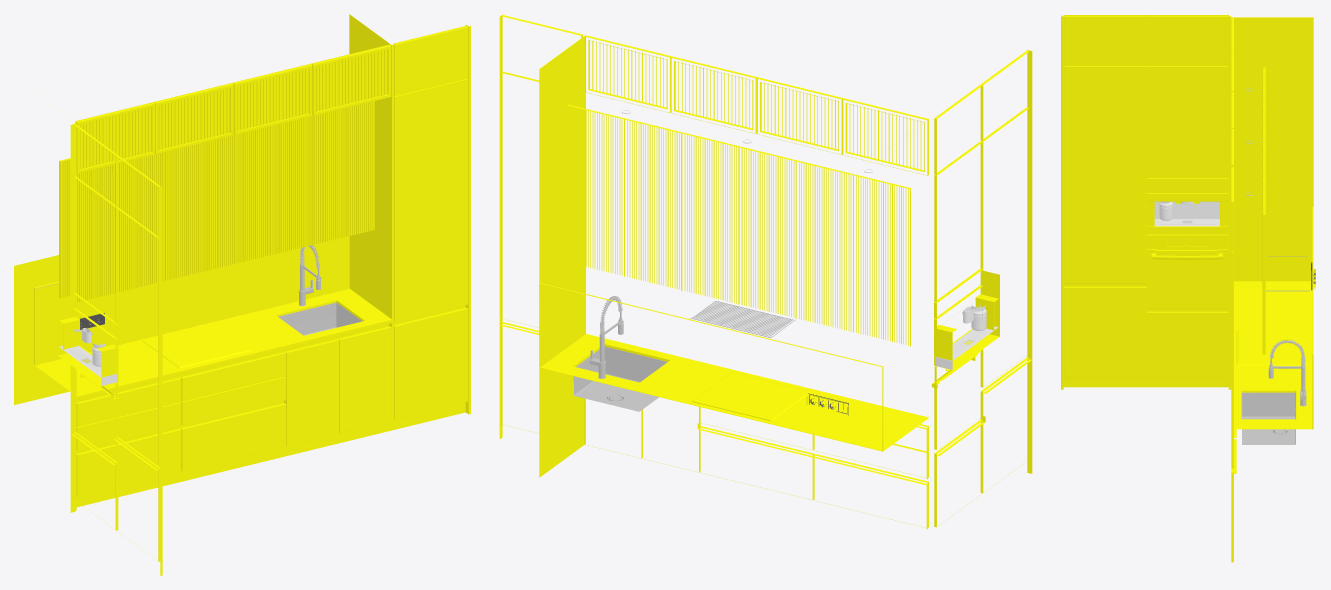
The model's file is SM_Kitchen.glb.
The picture shows the model from 3 angles, left to right: view 1: azimuth 30°, elevation 25°; view 2: azimuth 150°, elevation 25°; view 3: azimuth 270°, elevation 25°; orthographic projection. The views are drawn at different scales.
Visible parts, largest first — view 1: SM_Kitchen; view 2: SM_Kitchen; view 3: SM_Kitchen.
Boxes of the visible parts, x1,y1,x2,y2 form: SM_Kitchen: (14, 14, 470, 575); SM_Kitchen: (499, 14, 1032, 529); SM_Kitchen: (1061, 14, 1315, 562).
Size of the model in its own units: 3.36 by 3 by 1.86.
Materials: 10 (5 with a texture image).
